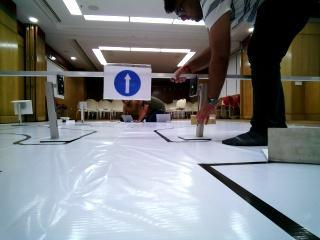straight: (105, 63, 155, 98)
